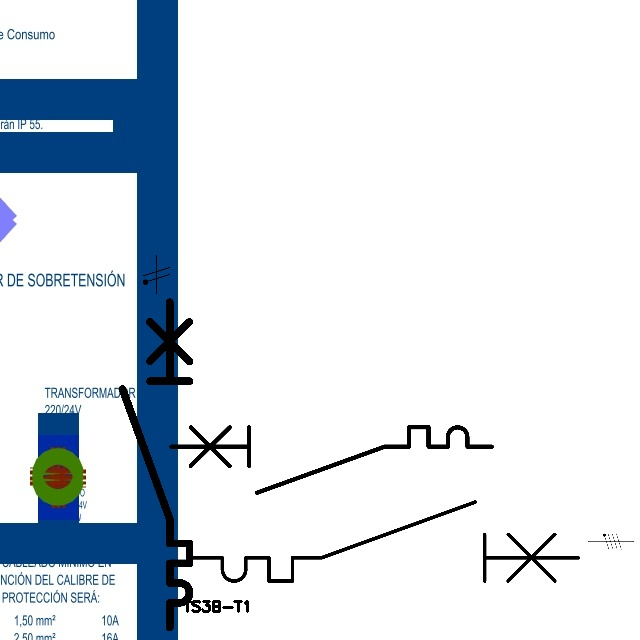interruptor_termomagnetico: (183, 492, 588, 591), (114, 293, 198, 635), (163, 419, 500, 501)
